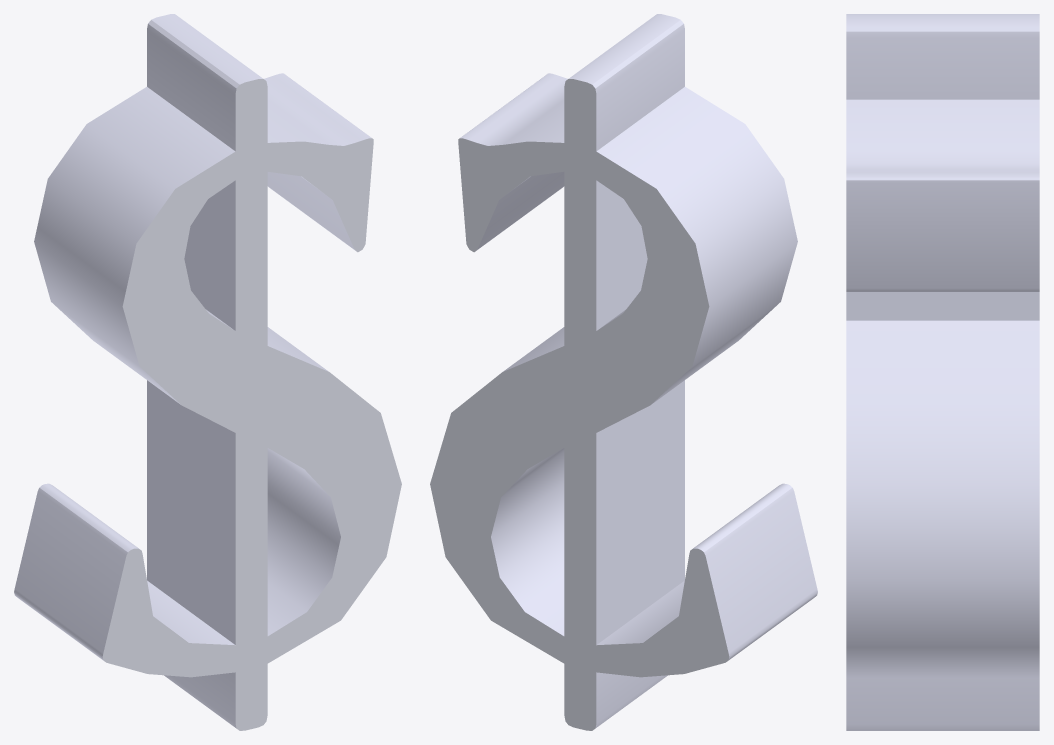
File: symbol$_Soul_Grey.glb
The picture shows the model from 3 angles, left to right: view 1: azimuth 30°, elevation 25°; view 2: azimuth 150°, elevation 25°; view 3: azimuth 270°, elevation 25°; orthographic projection. The views are drawn at different scales.
Visible parts, largest first — view 1: $_Soul_Grey; view 2: $_Soul_Grey; view 3: $_Soul_Grey.
Boxes of the visible parts, <box> form: $_Soul_Grey: <box>14,14,401,730</box>; $_Soul_Grey: <box>430,14,817,730</box>; $_Soul_Grey: <box>846,14,1039,730</box>.
Size of what is drawn, in the model's own units: 0.0878 by 0.1816 by 0.045.
2 materials, 2 textured.
